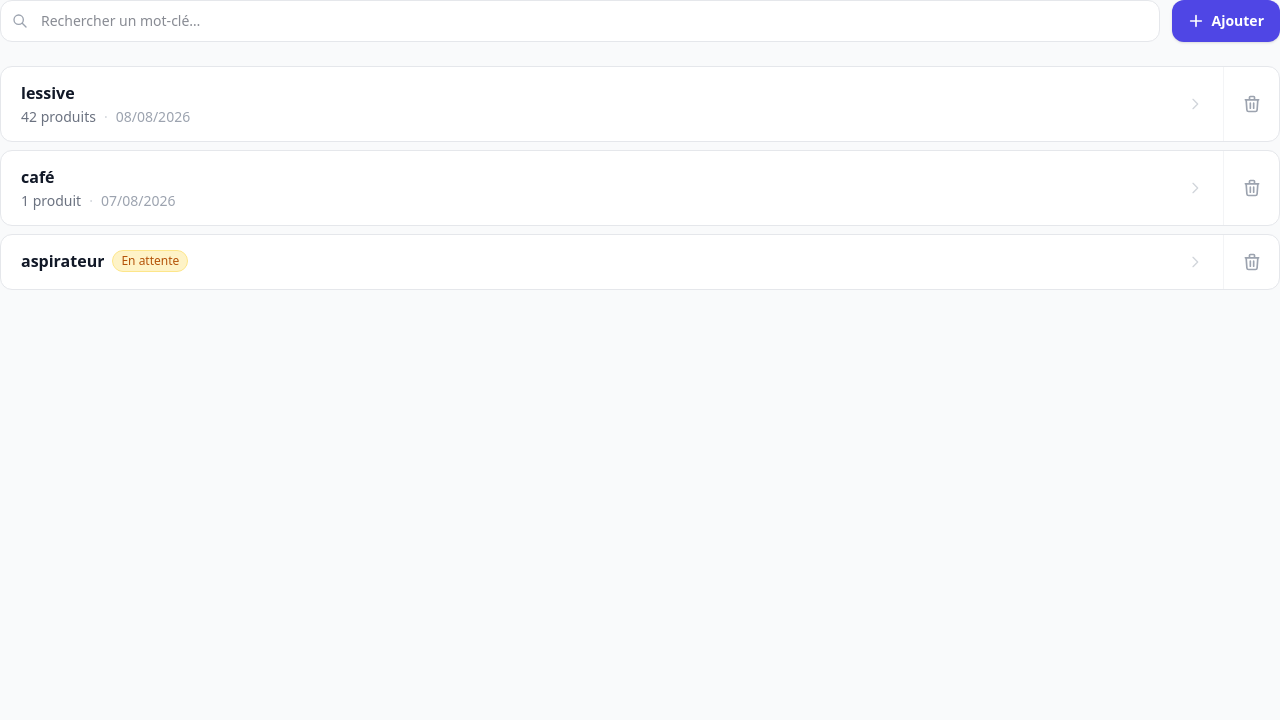
Test case: KeywordDashboard › suppression › nomme le mot-clé visé dans la confirmation
Click the button named "Supprimer le mot-clé café": (1251, 188) [1223,151,1279,225]
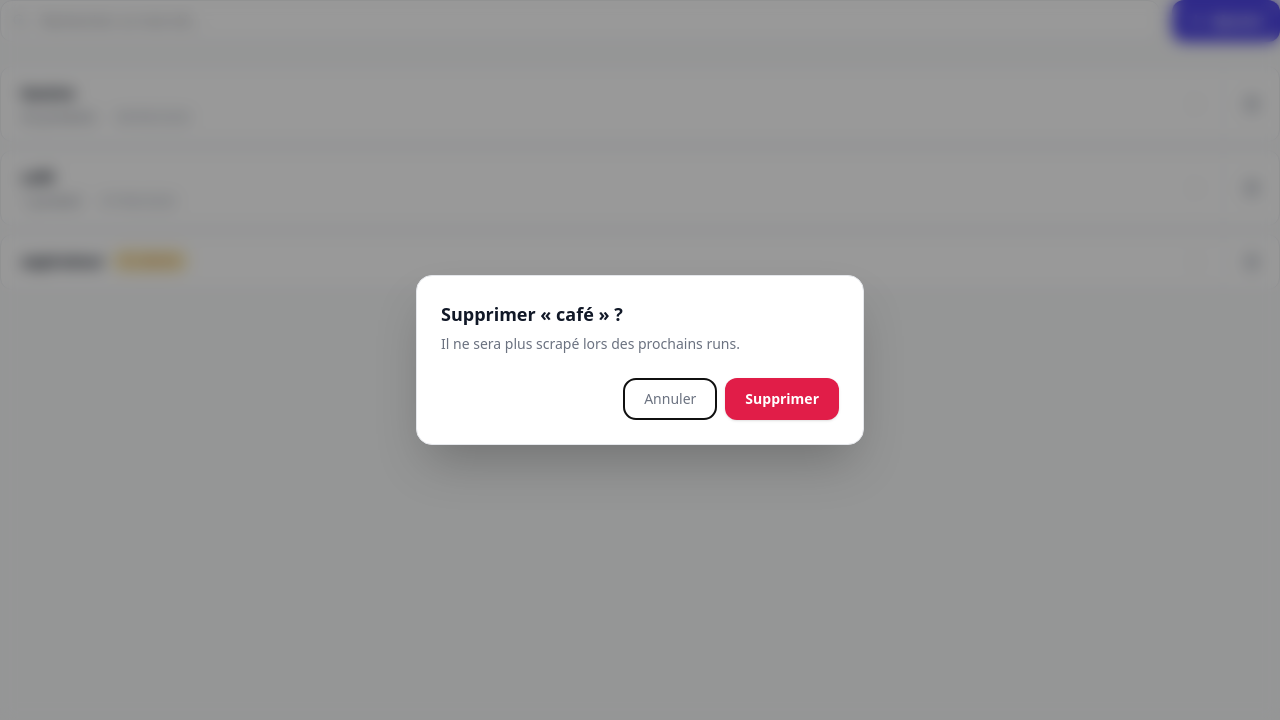
expect the heading "Supprimer « café » ?" is shown: met, box [441,302,623,326]
